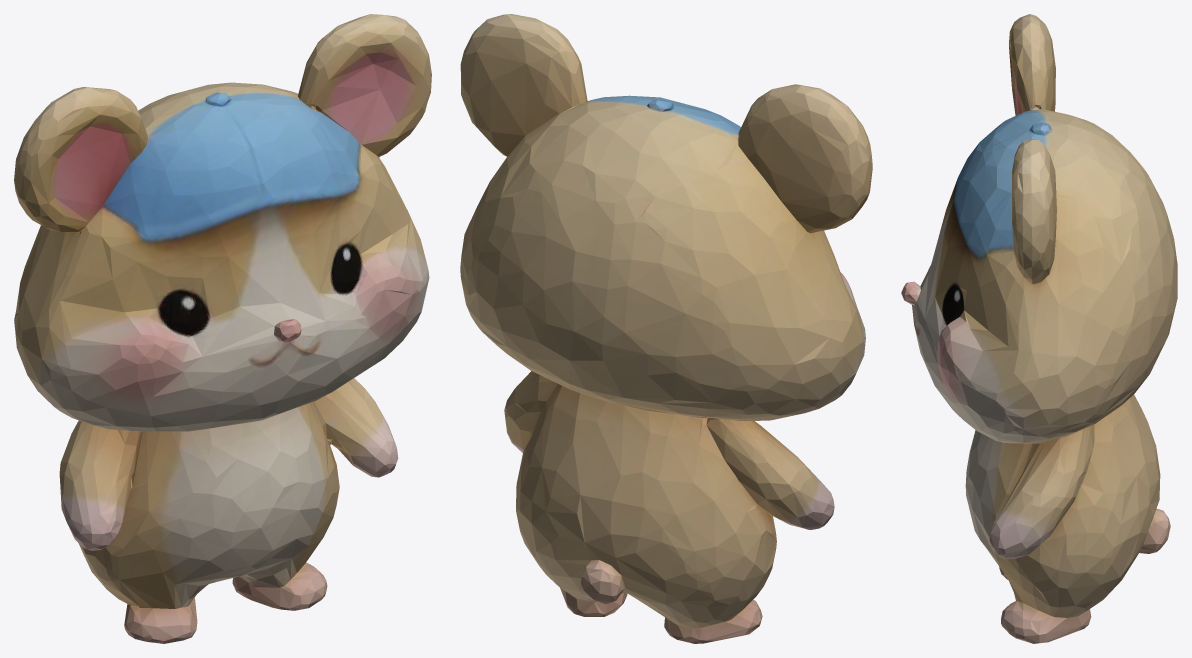
The model's file is hamssi.glb.
3 views of the same model, side by side, from view 1: azimuth 30°, elevation 25°; view 2: azimuth 150°, elevation 25°; view 3: azimuth 270°, elevation 25° (orthographic). The views are drawn at different scales.
Parts seen in each view (by area): view 1: geometry_0; view 2: geometry_0; view 3: geometry_0.
Boxes of the visible parts, x1,y1,x2,y2 form: geometry_0: [14, 14, 431, 643]; geometry_0: [460, 14, 872, 643]; geometry_0: [901, 14, 1177, 643].
Bounding box in the file's own units: 0.761 × 0.9975 × 0.4836.
1 material, 1 textured.
